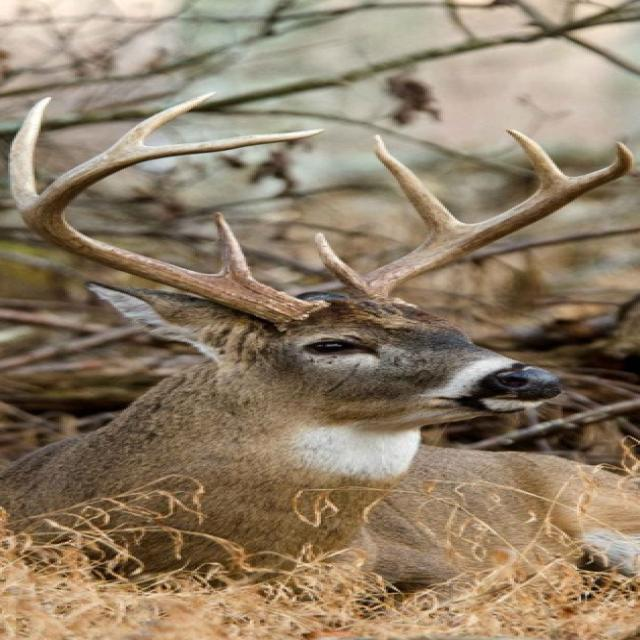L-G1: (312, 231, 361, 287)
L-G2: (371, 134, 467, 241)
L-G3: (503, 127, 571, 191)
R-F: (20, 128, 332, 333)
R-G1: (212, 211, 262, 285)
R-G2: (7, 95, 56, 215)
R-G3: (103, 90, 219, 152)
